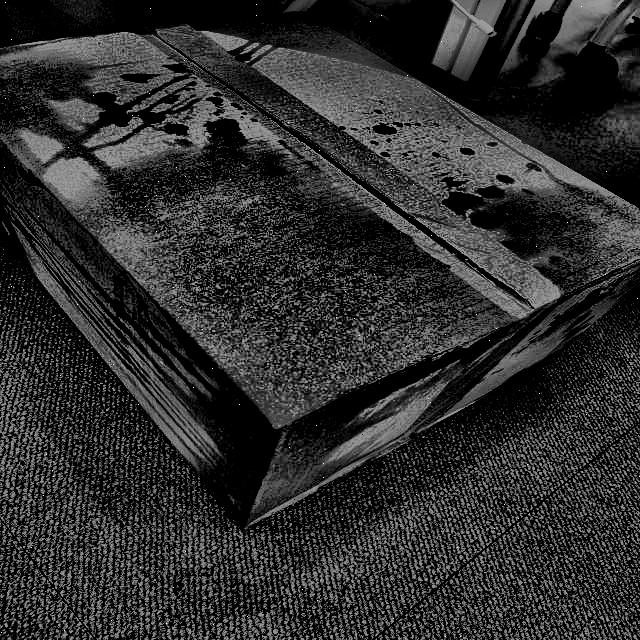box: (0, 5, 639, 532)
wet: (61, 167, 440, 414), (480, 175, 630, 297), (194, 395, 337, 520), (207, 9, 409, 75), (0, 37, 106, 153)
